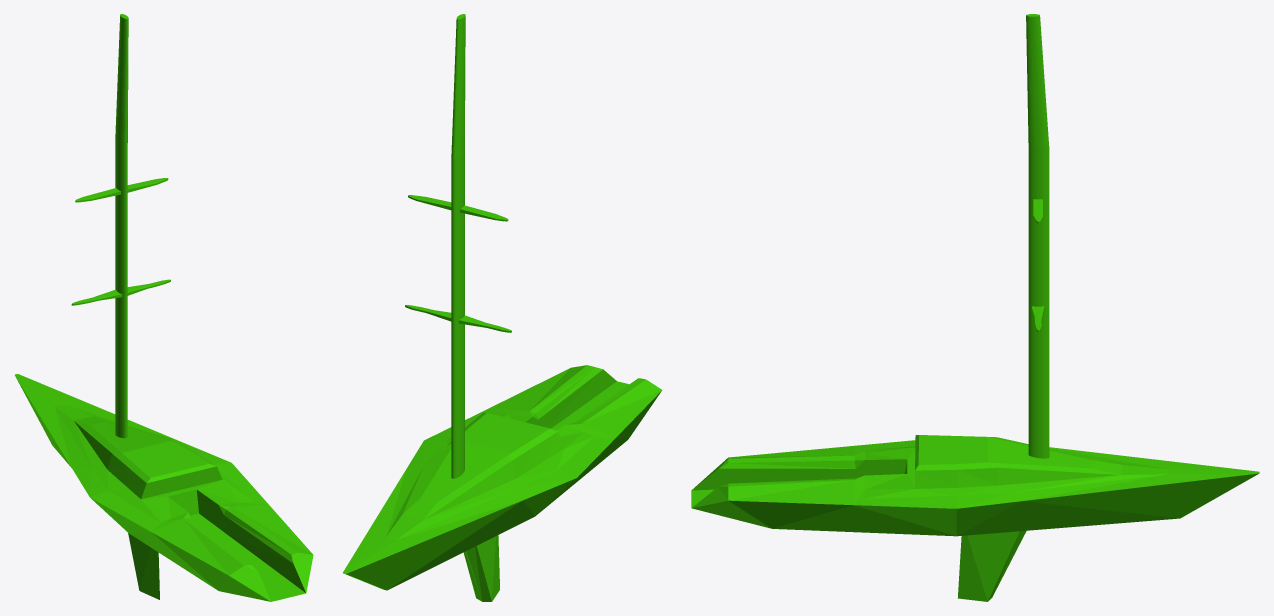
File: boat2_3dex_boat.obj
3 views of the same model, side by side, from view 1: azimuth 30°, elevation 25°; view 2: azimuth 150°, elevation 25°; view 3: azimuth 270°, elevation 25° (orthographic). The views are drawn at different scales.
Visible parts, largest first — view 1: boat_Cylinder.001; view 2: boat_Cylinder.001; view 3: boat_Cylinder.001.
Boxes of the visible parts, box(x1,y1,x2,y2) form: boat_Cylinder.001: box(15, 14, 313, 601); boat_Cylinder.001: box(343, 14, 661, 601); boat_Cylinder.001: box(691, 14, 1259, 601).
Bounding box in the file's own units: 4.68 × 17.57 × 15.52.
